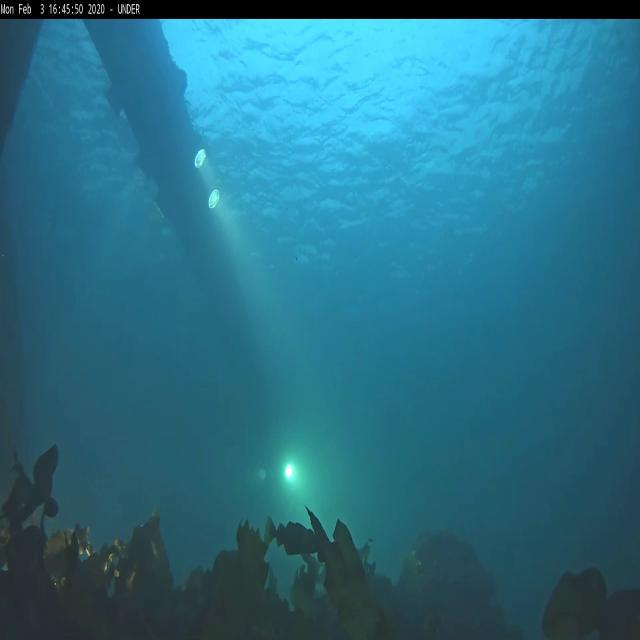fish: (264, 514, 320, 554)
